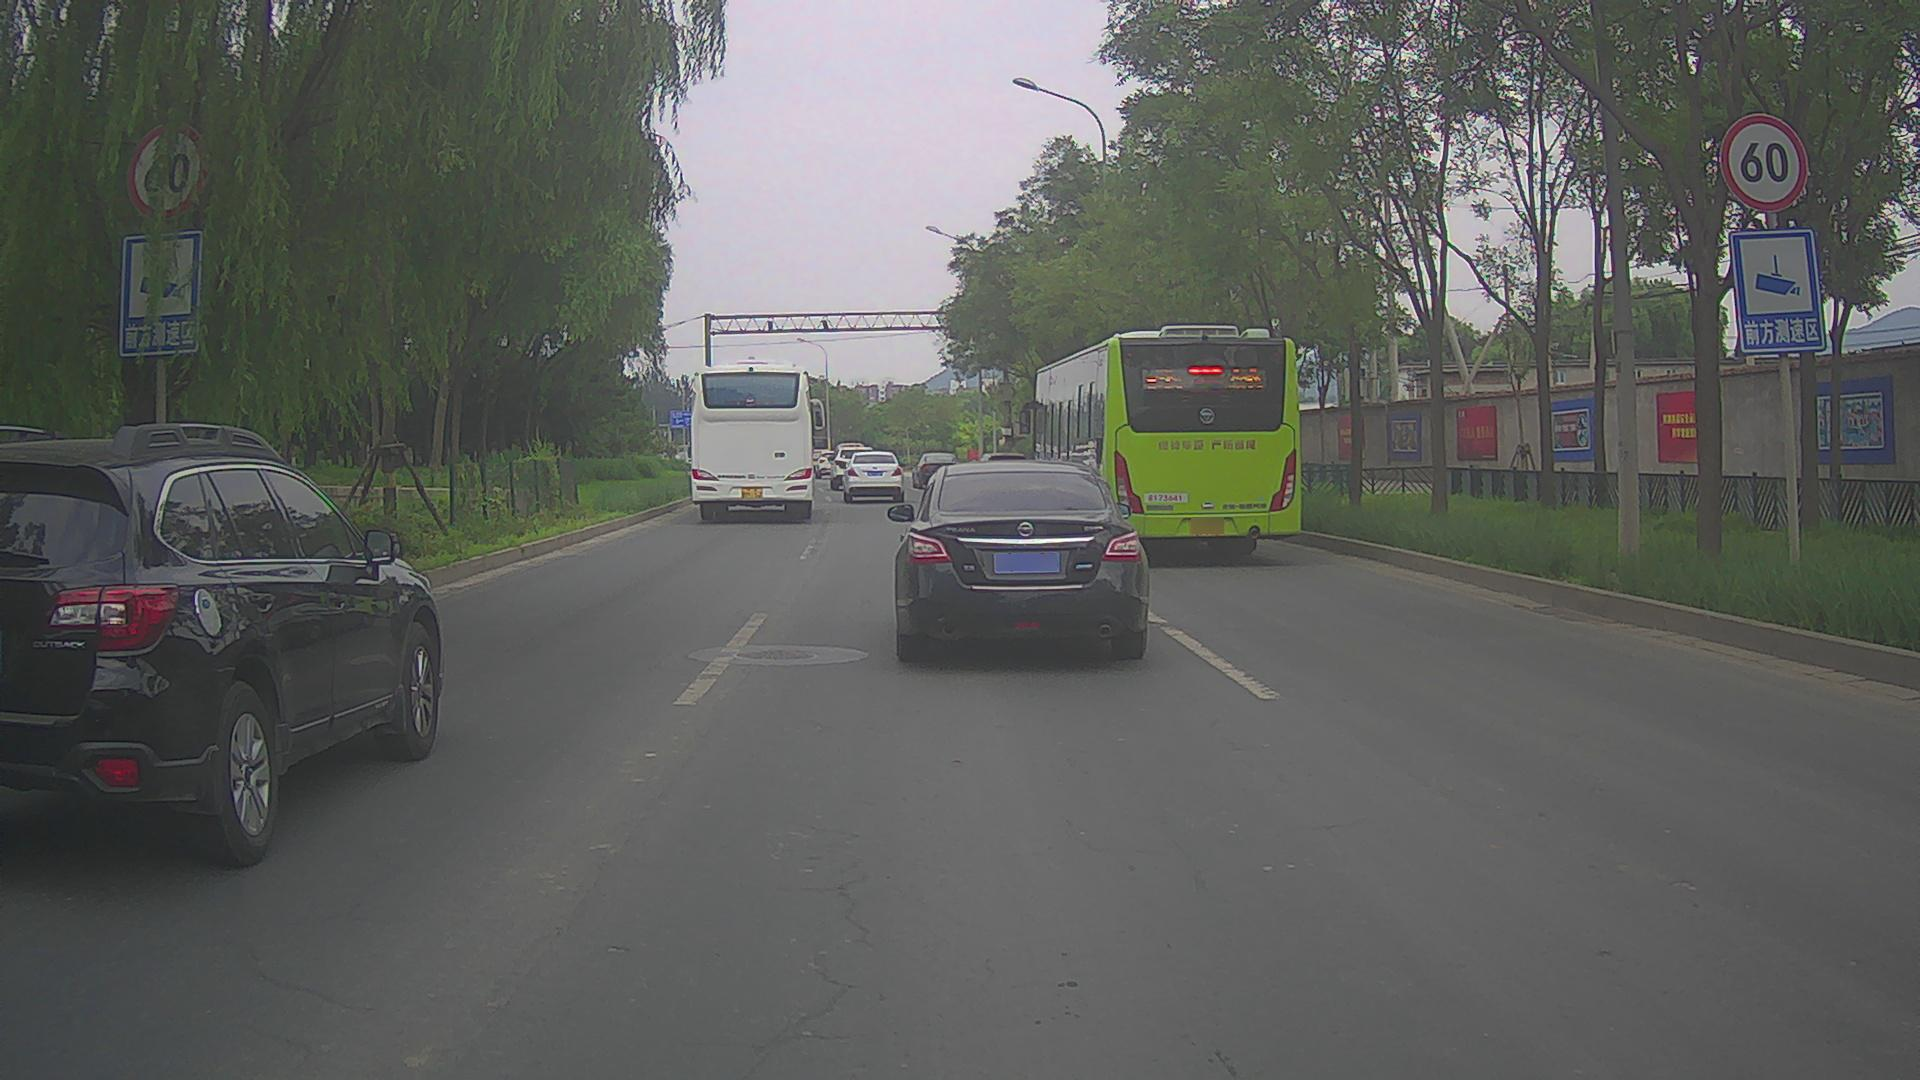bus: (1017, 324, 1302, 560), (690, 359, 825, 521)
car: (1, 422, 443, 869), (885, 458, 1150, 661), (840, 450, 905, 504), (827, 446, 874, 491), (910, 452, 957, 491), (812, 450, 843, 480)
ignore: (814, 448, 825, 465)
